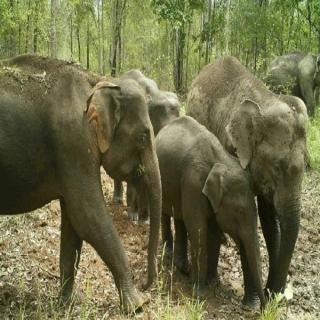Elephant: (0, 53, 167, 310), (201, 57, 317, 316), (154, 112, 260, 311)
